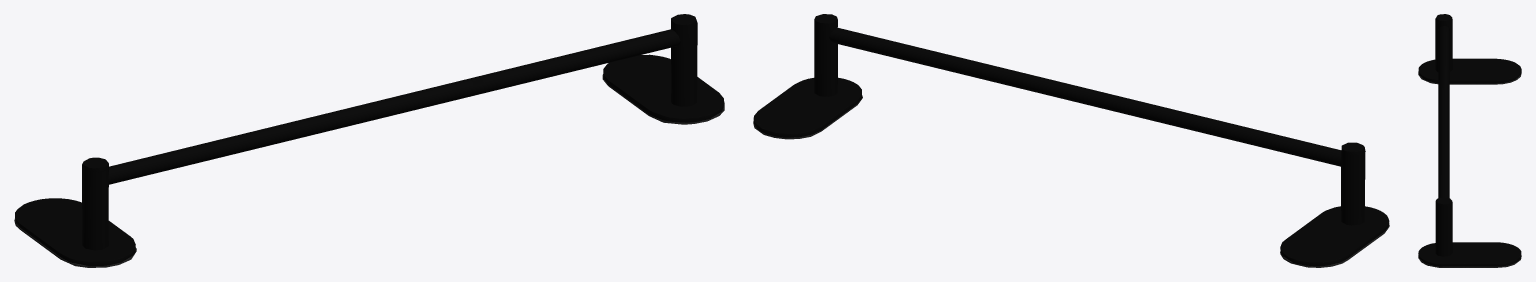
The model's file is skoghall_wieszak_na_recznik_samoprzylepny_30598639.glb.
3 views of the same model, side by side, from view 1: azimuth 30°, elevation 25°; view 2: azimuth 150°, elevation 25°; view 3: azimuth 270°, elevation 25° (orthographic). The views are drawn at different scales.
Parts seen in each view (by area): view 1: skoghall_wieszak_na_recznik_samoprzylepny_30598639; view 2: skoghall_wieszak_na_recznik_samoprzylepny_30598639; view 3: skoghall_wieszak_na_recznik_samoprzylepny_30598639.
Boxes of the visible parts, left/top/right/bottom form: skoghall_wieszak_na_recznik_samoprzylepny_30598639: left=14, top=14, right=724, bottom=267; skoghall_wieszak_na_recznik_samoprzylepny_30598639: left=753, top=14, right=1389, bottom=267; skoghall_wieszak_na_recznik_samoprzylepny_30598639: left=1418, top=14, right=1521, bottom=267.
Bounding box in the file's own units: 0.4311 × 0.0552 × 0.092.
Materials: 1 (1 with a texture image).
